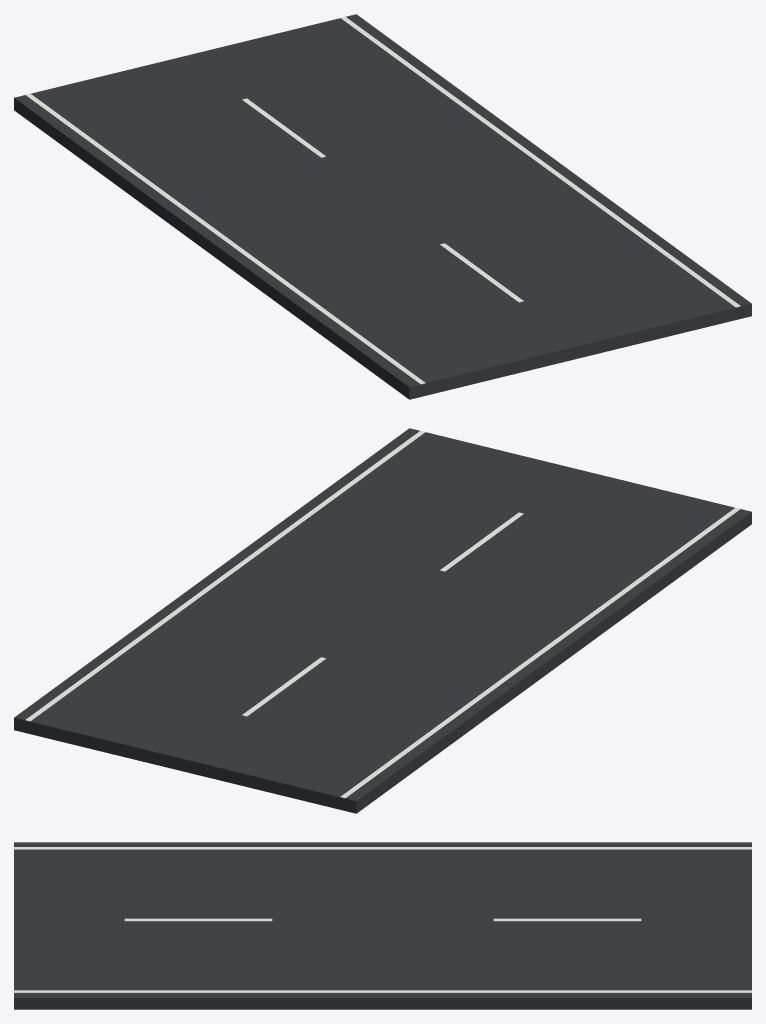
File: Scenery_Road_Straight.fbx
3 renders of one model, top to bottom at view 1: azimuth 30°, elevation 25°; view 2: azimuth 150°, elevation 25°; view 3: azimuth 270°, elevation 25°, orthographic. The views are drawn at different scales.
Visible parts, largest first — view 1: Scenery_Road_Straight; view 2: Scenery_Road_Straight; view 3: Scenery_Road_Straight.
Boxes of the visible parts, box(x1,y1,x2,y2) form: Scenery_Road_Straight: box(14, 14, 751, 399); Scenery_Road_Straight: box(14, 428, 751, 813); Scenery_Road_Straight: box(14, 842, 751, 1009).
Bounding box in the file's own units: 10 × 0.36 × 20.
